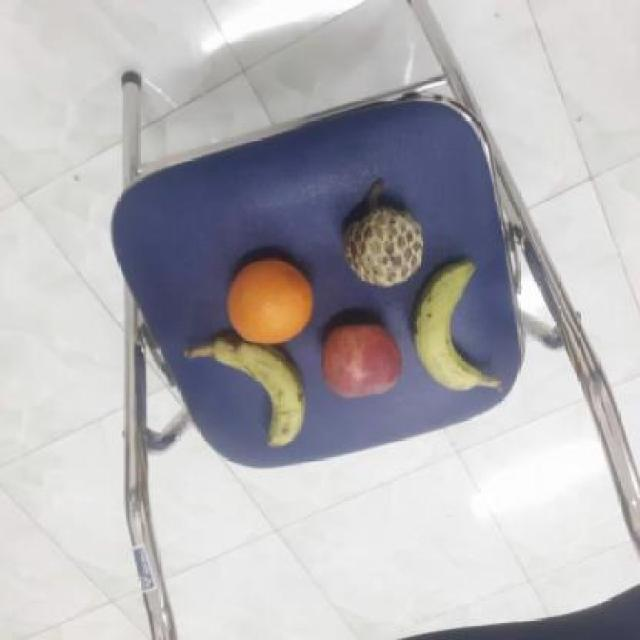apple: (316, 318, 401, 402)
banana: (196, 338, 312, 452), (409, 262, 506, 393)
oren: (222, 254, 310, 348)
sugar apple: (341, 204, 428, 288)
